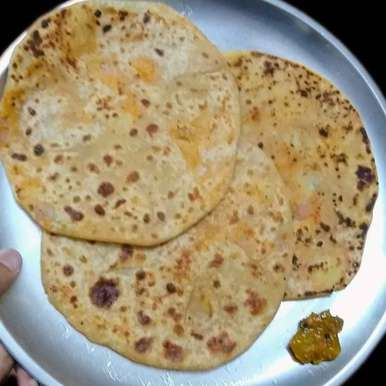aloo_paratha: (3, 1, 382, 374)
